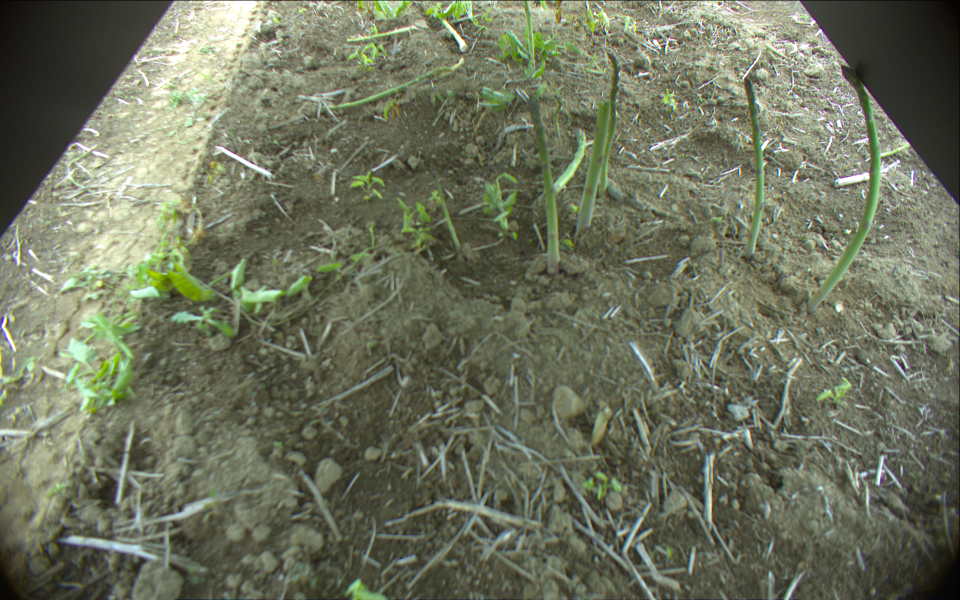aspa: (805, 64, 884, 313), (529, 92, 566, 274), (326, 66, 455, 112), (742, 78, 768, 258), (578, 100, 612, 231), (597, 51, 621, 197), (551, 125, 586, 195), (435, 180, 465, 255), (346, 20, 437, 42), (439, 11, 469, 52), (522, 1, 539, 69)
